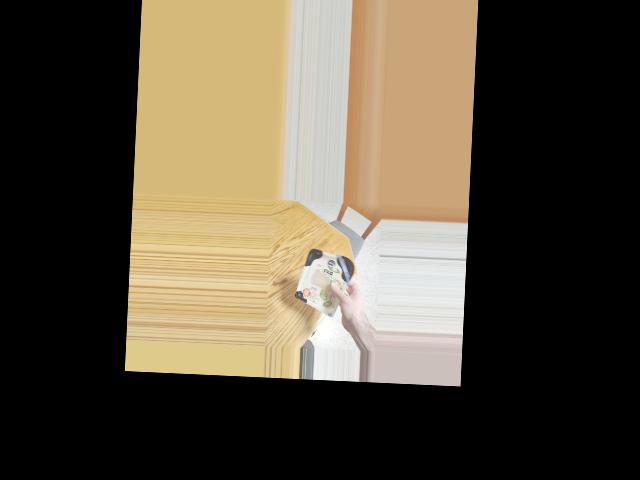cheese: (295, 246, 357, 307)
